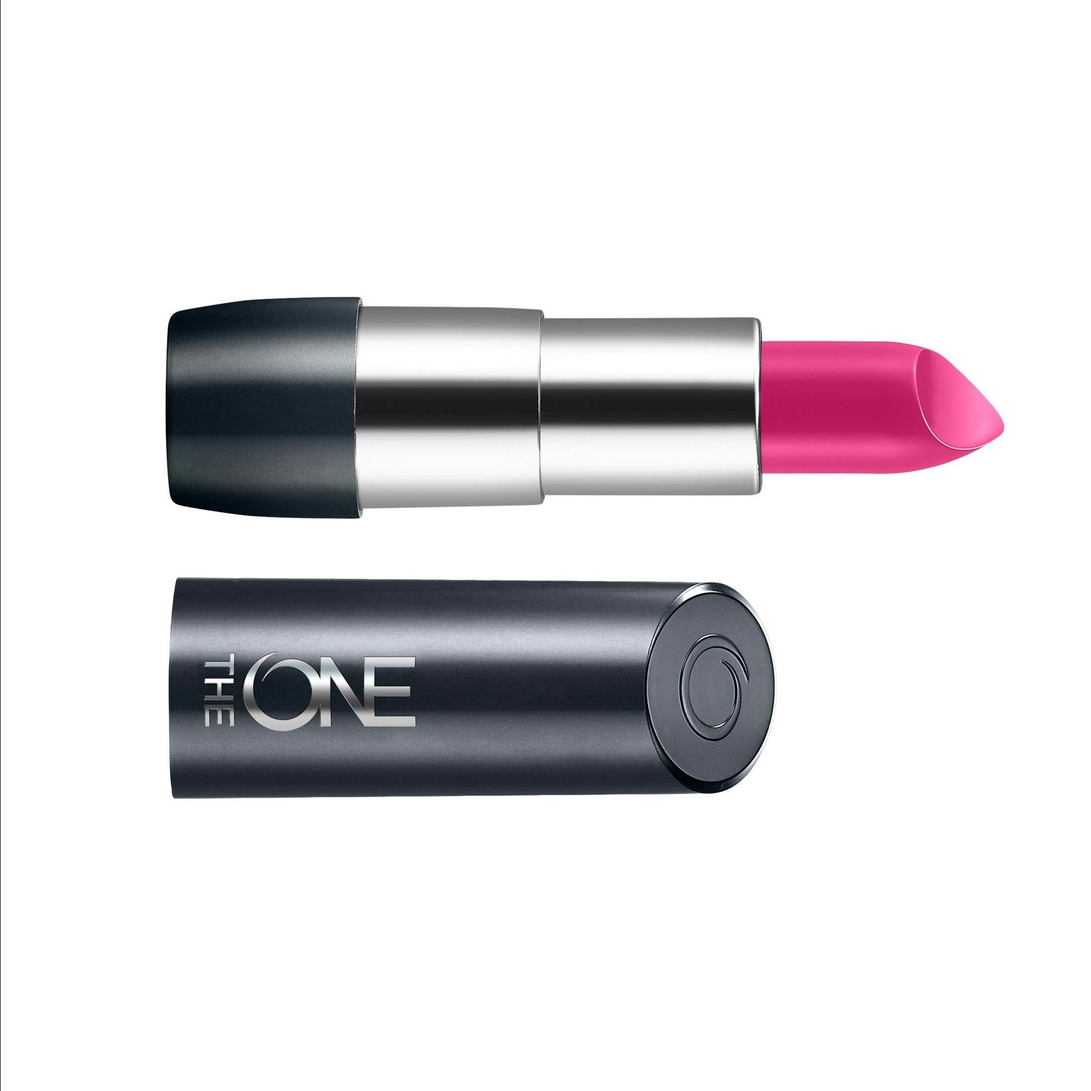lipstick: (101, 162, 1027, 835)
